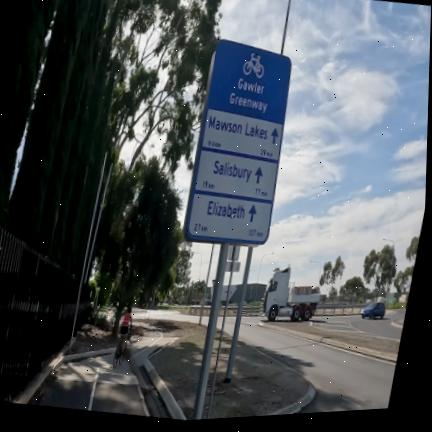Bike_Lane: (36, 332, 176, 417)
